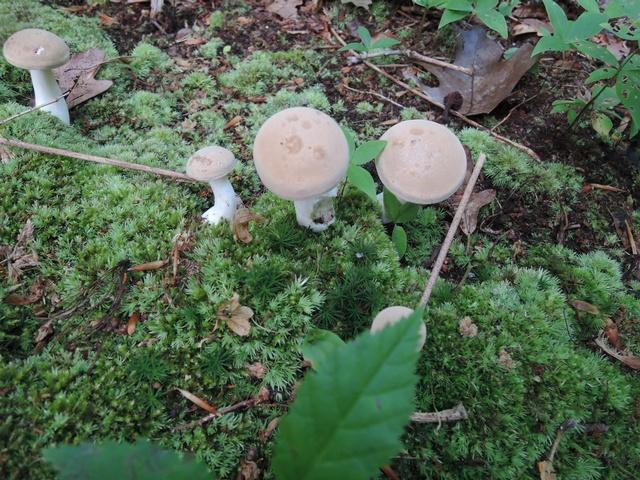Edible Mushroom: (252, 105, 349, 231), (374, 118, 467, 206), (2, 27, 71, 125), (184, 144, 241, 226)
